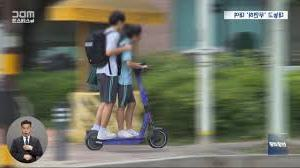multiple: (84, 11, 168, 151)
